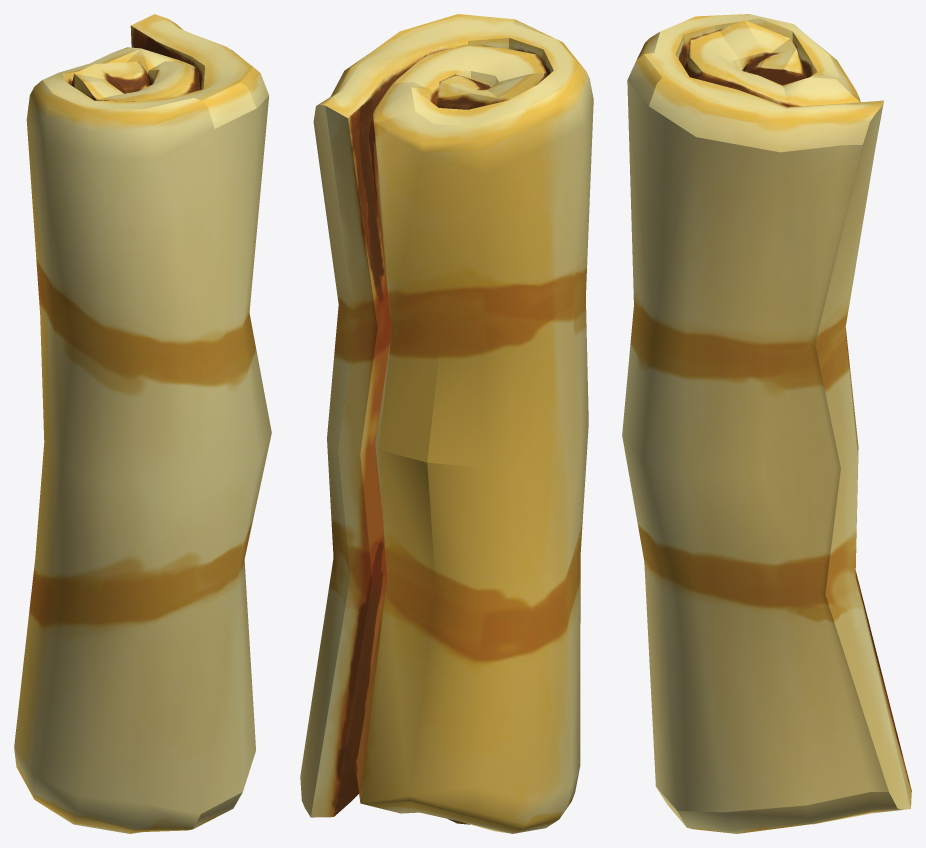
File: map.fbx
The picture shows the model from 3 angles, left to right: view 1: azimuth 30°, elevation 25°; view 2: azimuth 150°, elevation 25°; view 3: azimuth 270°, elevation 25°; orthographic projection.
Visible parts, largest first — view 1: map; view 2: map; view 3: map.
Part boxes in pixels (box(x1,y1,x2,y2)): map: box(14, 14, 271, 833); map: box(300, 14, 593, 833); map: box(622, 14, 911, 833).
Size of the model in its own units: 14.83 by 47.86 by 16.7.
Materials: 1 (1 with a texture image).
